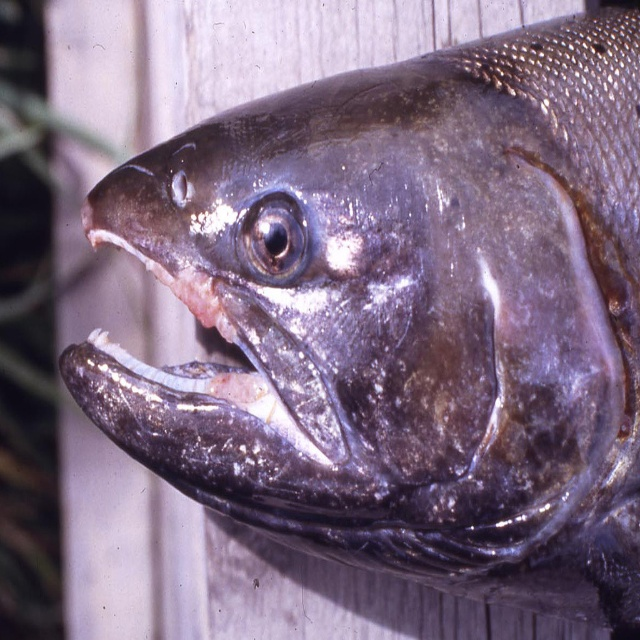Fish: (60, 0, 639, 639)
